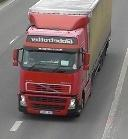truck: (12, 0, 111, 118)
